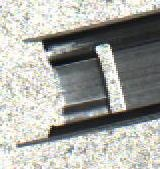press: (17, 12, 150, 150)
